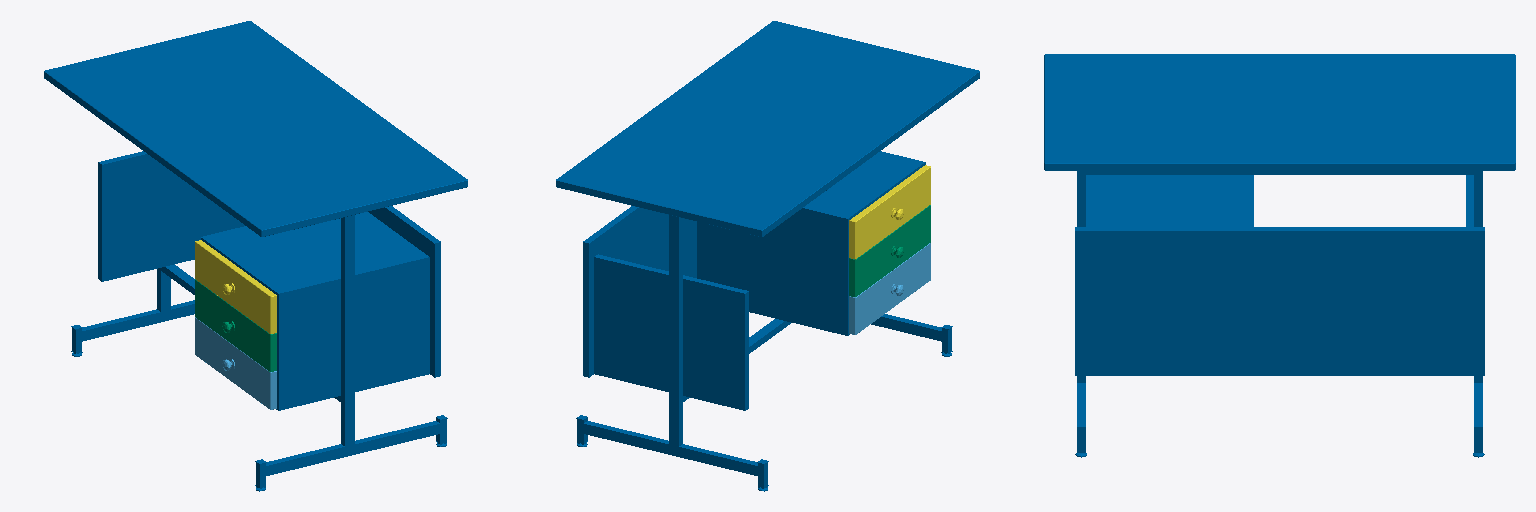
robot.urdf — partnet_56ea26c10c478555a31cc7b61ec6561:
<?xml version='1.0' encoding='utf-8'?>
<robot name="partnet_56ea26c10c478555a31cc7b61ec6561">
	<link name="base" />
	<link name="link_0">
		<visual name="drawer_front-43">
			<origin xyz="0 0 0" />
			<geometry>
				<mesh filename="textured_objs/original-33.obj" />
			</geometry>
		</visual>
		<visual name="drawer_front-43">
			<origin xyz="0 0 0" />
			<geometry>
				<mesh filename="textured_objs/original-35.obj" />
			</geometry>
		</visual>
		<visual name="drawer_side-44">
			<origin xyz="0 0 0" />
			<geometry>
				<mesh filename="textured_objs/original-38.obj" />
			</geometry>
		</visual>
		<visual name="drawer_side-45">
			<origin xyz="0 0 0" />
			<geometry>
				<mesh filename="textured_objs/original-36.obj" />
			</geometry>
		</visual>
		<visual name="drawer_back-46">
			<origin xyz="0 0 0" />
			<geometry>
				<mesh filename="textured_objs/original-34.obj" />
			</geometry>
		</visual>
		<visual name="drawer_bottom-47">
			<origin xyz="0 0 0" />
			<geometry>
				<mesh filename="textured_objs/original-37.obj" />
			</geometry>
		</visual>
		<visual name="handle-42">
			<origin xyz="0 0 0" />
			<geometry>
				<mesh filename="textured_objs/original-31.obj" />
			</geometry>
		</visual>
		<collision>
			<origin xyz="0 0 0" />
			<geometry>
				<mesh filename="textured_objs/original-33.obj" />
			</geometry>
		</collision>
		<collision>
			<origin xyz="0 0 0" />
			<geometry>
				<mesh filename="textured_objs/original-35.obj" />
			</geometry>
		</collision>
		<collision>
			<origin xyz="0 0 0" />
			<geometry>
				<mesh filename="textured_objs/original-38.obj" />
			</geometry>
		</collision>
		<collision>
			<origin xyz="0 0 0" />
			<geometry>
				<mesh filename="textured_objs/original-36.obj" />
			</geometry>
		</collision>
		<collision>
			<origin xyz="0 0 0" />
			<geometry>
				<mesh filename="textured_objs/original-34.obj" />
			</geometry>
		</collision>
		<collision>
			<origin xyz="0 0 0" />
			<geometry>
				<mesh filename="textured_objs/original-37.obj" />
			</geometry>
		</collision>
		<collision>
			<origin xyz="0 0 0" />
			<geometry>
				<mesh filename="textured_objs/original-31.obj" />
			</geometry>
		</collision>
	</link>
	<joint name="joint_0" type="prismatic">
		<origin xyz="0 0 0" />
		<axis xyz="0 0 1" />
		<child link="link_0" />
		<parent link="link_3" />
		<limit lower="0" upper="0.4039999999999999" />
	</joint>
	<link name="link_1">
		<visual name="drawer_front-36">
			<origin xyz="0 0 0" />
			<geometry>
				<mesh filename="textured_objs/original-24.obj" />
			</geometry>
		</visual>
		<visual name="drawer_front-36">
			<origin xyz="0 0 0" />
			<geometry>
				<mesh filename="textured_objs/original-26.obj" />
			</geometry>
		</visual>
		<visual name="drawer_side-37">
			<origin xyz="0 0 0" />
			<geometry>
				<mesh filename="textured_objs/original-29.obj" />
			</geometry>
		</visual>
		<visual name="drawer_side-38">
			<origin xyz="0 0 0" />
			<geometry>
				<mesh filename="textured_objs/original-27.obj" />
			</geometry>
		</visual>
		<visual name="drawer_back-39">
			<origin xyz="0 0 0" />
			<geometry>
				<mesh filename="textured_objs/original-25.obj" />
			</geometry>
		</visual>
		<visual name="drawer_bottom-40">
			<origin xyz="0 0 0" />
			<geometry>
				<mesh filename="textured_objs/original-28.obj" />
			</geometry>
		</visual>
		<visual name="handle-35">
			<origin xyz="0 0 0" />
			<geometry>
				<mesh filename="textured_objs/original-22.obj" />
			</geometry>
		</visual>
		<collision>
			<origin xyz="0 0 0" />
			<geometry>
				<mesh filename="textured_objs/original-24.obj" />
			</geometry>
		</collision>
		<collision>
			<origin xyz="0 0 0" />
			<geometry>
				<mesh filename="textured_objs/original-26.obj" />
			</geometry>
		</collision>
		<collision>
			<origin xyz="0 0 0" />
			<geometry>
				<mesh filename="textured_objs/original-29.obj" />
			</geometry>
		</collision>
		<collision>
			<origin xyz="0 0 0" />
			<geometry>
				<mesh filename="textured_objs/original-27.obj" />
			</geometry>
		</collision>
		<collision>
			<origin xyz="0 0 0" />
			<geometry>
				<mesh filename="textured_objs/original-25.obj" />
			</geometry>
		</collision>
		<collision>
			<origin xyz="0 0 0" />
			<geometry>
				<mesh filename="textured_objs/original-28.obj" />
			</geometry>
		</collision>
		<collision>
			<origin xyz="0 0 0" />
			<geometry>
				<mesh filename="textured_objs/original-22.obj" />
			</geometry>
		</collision>
	</link>
	<joint name="joint_1" type="prismatic">
		<origin xyz="0 0 0" />
		<axis xyz="0 0 1" />
		<child link="link_1" />
		<parent link="link_3" />
		<limit lower="0" upper="0.42399999999999993" />
	</joint>
	<link name="link_2">
		<visual name="drawer_front-29">
			<origin xyz="0 0 0" />
			<geometry>
				<mesh filename="textured_objs/original-3.obj" />
			</geometry>
		</visual>
		<visual name="drawer_front-29">
			<origin xyz="0 0 0" />
			<geometry>
				<mesh filename="textured_objs/original-5.obj" />
			</geometry>
		</visual>
		<visual name="drawer_side-30">
			<origin xyz="0 0 0" />
			<geometry>
				<mesh filename="textured_objs/original-8.obj" />
			</geometry>
		</visual>
		<visual name="drawer_side-31">
			<origin xyz="0 0 0" />
			<geometry>
				<mesh filename="textured_objs/original-6.obj" />
			</geometry>
		</visual>
		<visual name="drawer_back-32">
			<origin xyz="0 0 0" />
			<geometry>
				<mesh filename="textured_objs/original-4.obj" />
			</geometry>
		</visual>
		<visual name="drawer_bottom-33">
			<origin xyz="0 0 0" />
			<geometry>
				<mesh filename="textured_objs/original-7.obj" />
			</geometry>
		</visual>
		<visual name="handle-28">
			<origin xyz="0 0 0" />
			<geometry>
				<mesh filename="textured_objs/original-9.obj" />
			</geometry>
		</visual>
		<collision>
			<origin xyz="0 0 0" />
			<geometry>
				<mesh filename="textured_objs/original-3.obj" />
			</geometry>
		</collision>
		<collision>
			<origin xyz="0 0 0" />
			<geometry>
				<mesh filename="textured_objs/original-5.obj" />
			</geometry>
		</collision>
		<collision>
			<origin xyz="0 0 0" />
			<geometry>
				<mesh filename="textured_objs/original-8.obj" />
			</geometry>
		</collision>
		<collision>
			<origin xyz="0 0 0" />
			<geometry>
				<mesh filename="textured_objs/original-6.obj" />
			</geometry>
		</collision>
		<collision>
			<origin xyz="0 0 0" />
			<geometry>
				<mesh filename="textured_objs/original-4.obj" />
			</geometry>
		</collision>
		<collision>
			<origin xyz="0 0 0" />
			<geometry>
				<mesh filename="textured_objs/original-7.obj" />
			</geometry>
		</collision>
		<collision>
			<origin xyz="0 0 0" />
			<geometry>
				<mesh filename="textured_objs/original-9.obj" />
			</geometry>
		</collision>
	</link>
	<joint name="joint_2" type="prismatic">
		<origin xyz="0 0 0" />
		<axis xyz="0 0 1" />
		<child link="link_2" />
		<parent link="link_3" />
		<limit lower="0" upper="0.42399999999999993" />
	</joint>
	<link name="link_3">
		<visual name="board-49">
			<origin xyz="0 0 0" />
			<geometry>
				<mesh filename="textured_objs/original-11.obj" />
			</geometry>
		</visual>
		<visual name="shelf-8">
			<origin xyz="0 0 0" />
			<geometry>
				<mesh filename="textured_objs/original-18.obj" />
			</geometry>
		</visual>
		<visual name="back_panel-9">
			<origin xyz="0 0 0" />
			<geometry>
				<mesh filename="textured_objs/original-13.obj" />
			</geometry>
		</visual>
		<visual name="vertical_side_panel-10">
			<origin xyz="0 0 0" />
			<geometry>
				<mesh filename="textured_objs/original-15.obj" />
			</geometry>
		</visual>
		<visual name="vertical_side_panel-11">
			<origin xyz="0 0 0" />
			<geometry>
				<mesh filename="textured_objs/original-17.obj" />
			</geometry>
		</visual>
		<visual name="vertical_side_panel-12">
			<origin xyz="0 0 0" />
			<geometry>
				<mesh filename="textured_objs/original-20.obj" />
			</geometry>
		</visual>
		<visual name="bottom_panel-13">
			<origin xyz="0 0 0" />
			<geometry>
				<mesh filename="textured_objs/original-19.obj" />
			</geometry>
		</visual>
		<visual name="leg-14">
			<origin xyz="0 0 0" />
			<geometry>
				<mesh filename="textured_objs/new-7.obj" />
			</geometry>
		</visual>
		<visual name="leg-15">
			<origin xyz="0 0 0" />
			<geometry>
				<mesh filename="textured_objs/new-8.obj" />
			</geometry>
		</visual>
		<visual name="foot-16">
			<origin xyz="0 0 0" />
			<geometry>
				<mesh filename="textured_objs/new-1.obj" />
			</geometry>
		</visual>
		<visual name="foot-17">
			<origin xyz="0 0 0" />
			<geometry>
				<mesh filename="textured_objs/new-0.obj" />
			</geometry>
		</visual>
		<visual name="foot-18">
			<origin xyz="0 0 0" />
			<geometry>
				<mesh filename="textured_objs/new-5.obj" />
			</geometry>
		</visual>
		<visual name="foot-19">
			<origin xyz="0 0 0" />
			<geometry>
				<mesh filename="textured_objs/new-4.obj" />
			</geometry>
		</visual>
		<visual name="runner-20">
			<origin xyz="0 0 0" />
			<geometry>
				<mesh filename="textured_objs/new-6.obj" />
			</geometry>
		</visual>
		<visual name="runner-21">
			<origin xyz="0 0 0" />
			<geometry>
				<mesh filename="textured_objs/new-2.obj" />
			</geometry>
		</visual>
		<visual name="bar_stretcher-22">
			<origin xyz="0 0 0" />
			<geometry>
				<mesh filename="textured_objs/new-3.obj" />
			</geometry>
		</visual>
		<visual name="tabletop_connector-23">
			<origin xyz="0 0 0" />
			<geometry>
				<mesh filename="textured_objs/new-10.obj" />
			</geometry>
		</visual>
		<visual name="tabletop_connector-24">
			<origin xyz="0 0 0" />
			<geometry>
				<mesh filename="textured_objs/new-11.obj" />
			</geometry>
		</visual>
		<visual name="tabletop_connector-25">
			<origin xyz="0 0 0" />
			<geometry>
				<mesh filename="textured_objs/new-12.obj" />
			</geometry>
		</visual>
		<visual name="tabletop_connector-26">
			<origin xyz="0 0 0" />
			<geometry>
				<mesh filename="textured_objs/new-9.obj" />
			</geometry>
		</visual>
		<collision>
			<origin xyz="0 0 0" />
			<geometry>
				<mesh filename="textured_objs/original-11.obj" />
			</geometry>
		</collision>
		<collision>
			<origin xyz="0 0 0" />
			<geometry>
				<mesh filename="textured_objs/original-18.obj" />
			</geometry>
		</collision>
		<collision>
			<origin xyz="0 0 0" />
			<geometry>
				<mesh filename="textured_objs/original-13.obj" />
			</geometry>
		</collision>
		<collision>
			<origin xyz="0 0 0" />
			<geometry>
				<mesh filename="textured_objs/original-15.obj" />
			</geometry>
		</collision>
		<collision>
			<origin xyz="0 0 0" />
			<geometry>
				<mesh filename="textured_objs/original-17.obj" />
			</geometry>
		</collision>
		<collision>
			<origin xyz="0 0 0" />
			<geometry>
				<mesh filename="textured_objs/original-20.obj" />
			</geometry>
		</collision>
		<collision>
			<origin xyz="0 0 0" />
			<geometry>
				<mesh filename="textured_objs/original-19.obj" />
			</geometry>
		</collision>
		<collision>
			<origin xyz="0 0 0" />
			<geometry>
				<mesh filename="textured_objs/new-7.obj" />
			</geometry>
		</collision>
		<collision>
			<origin xyz="0 0 0" />
			<geometry>
				<mesh filename="textured_objs/new-8.obj" />
			</geometry>
		</collision>
		<collision>
			<origin xyz="0 0 0" />
			<geometry>
				<mesh filename="textured_objs/new-1.obj" />
			</geometry>
		</collision>
		<collision>
			<origin xyz="0 0 0" />
			<geometry>
				<mesh filename="textured_objs/new-0.obj" />
			</geometry>
		</collision>
		<collision>
			<origin xyz="0 0 0" />
			<geometry>
				<mesh filename="textured_objs/new-5.obj" />
			</geometry>
		</collision>
		<collision>
			<origin xyz="0 0 0" />
			<geometry>
				<mesh filename="textured_objs/new-4.obj" />
			</geometry>
		</collision>
		<collision>
			<origin xyz="0 0 0" />
			<geometry>
				<mesh filename="textured_objs/new-6.obj" />
			</geometry>
		</collision>
		<collision>
			<origin xyz="0 0 0" />
			<geometry>
				<mesh filename="textured_objs/new-2.obj" />
			</geometry>
		</collision>
		<collision>
			<origin xyz="0 0 0" />
			<geometry>
				<mesh filename="textured_objs/new-3.obj" />
			</geometry>
		</collision>
		<collision>
			<origin xyz="0 0 0" />
			<geometry>
				<mesh filename="textured_objs/new-10.obj" />
			</geometry>
		</collision>
		<collision>
			<origin xyz="0 0 0" />
			<geometry>
				<mesh filename="textured_objs/new-11.obj" />
			</geometry>
		</collision>
		<collision>
			<origin xyz="0 0 0" />
			<geometry>
				<mesh filename="textured_objs/new-12.obj" />
			</geometry>
		</collision>
		<collision>
			<origin xyz="0 0 0" />
			<geometry>
				<mesh filename="textured_objs/new-9.obj" />
			</geometry>
		</collision>
	</link>
	<joint name="joint_3" type="fixed">
		<origin rpy="1.570796326794897 0 -1.570796326794897" xyz="0 0 0" />
		<child link="link_3" />
		<parent link="base" />
	</joint>
</robot>

--- Facts derived from the render (not from the file) ---
Views: 3 orthographic renders of the robot side by side, from view 1: azimuth 30°, elevation 25°; view 2: azimuth 150°, elevation 25°; view 3: azimuth 270°, elevation 25°.
Model partnet_56ea26c10c478555a31cc7b61ec6561 with 5 links and 4 joints (3 prismatic, 1 fixed), rooted at base, posed all joints at 0.
Visible links, largest first — view 1: link_3, link_2, link_1, link_0; view 2: link_3, link_2, link_1, link_0; view 3: link_3.
Boxes of the visible links, left/top/right/bottom form: link_3: left=44, top=21, right=467, bottom=491; link_2: left=195, top=240, right=276, bottom=333; link_1: left=195, top=279, right=276, bottom=371; link_0: left=195, top=317, right=276, bottom=409; link_3: left=556, top=21, right=979, bottom=491; link_2: left=849, top=165, right=930, bottom=259; link_1: left=849, top=205, right=930, bottom=296; link_0: left=849, top=243, right=930, bottom=334; link_3: left=1044, top=54, right=1515, bottom=457.
Size in the robot's own frame: 0.8016 by 1.46 by 1.02 metres.
41 mesh visuals loaded from 41 distinct referenced files (41 OBJ).